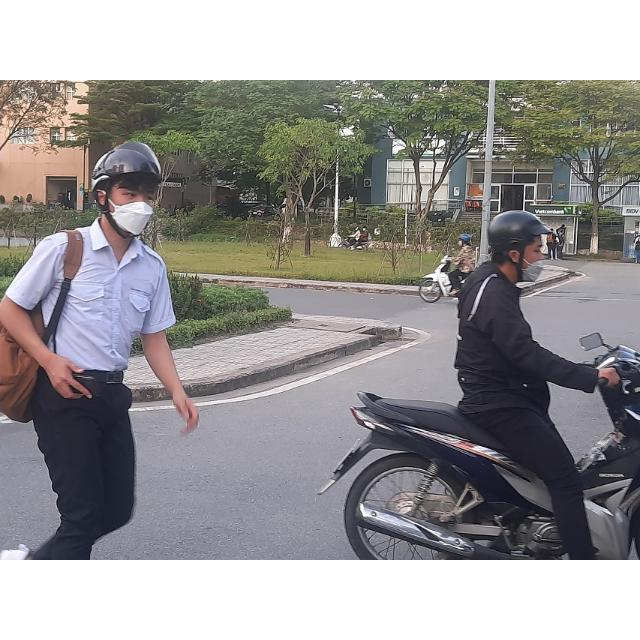Helmet: (92, 140, 164, 242), (487, 210, 549, 280)
